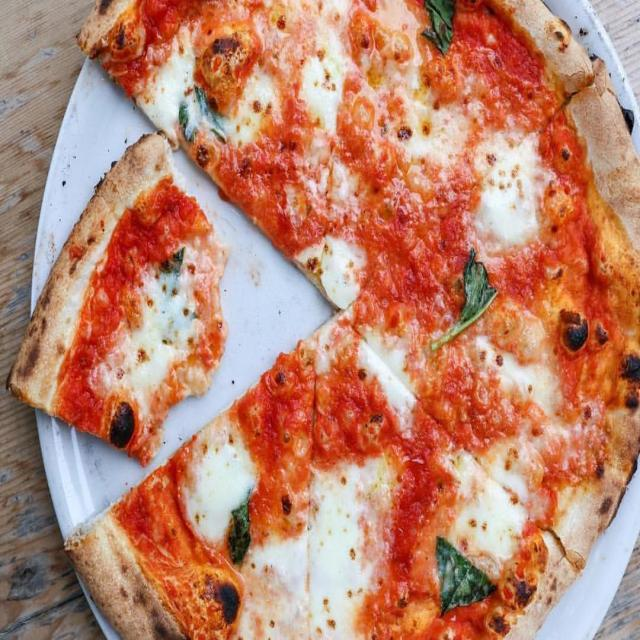basil: (428, 244, 501, 352), (437, 535, 499, 615), (421, 0, 454, 58), (231, 480, 252, 564)
pizza: (66, 0, 640, 640), (8, 131, 232, 467)
